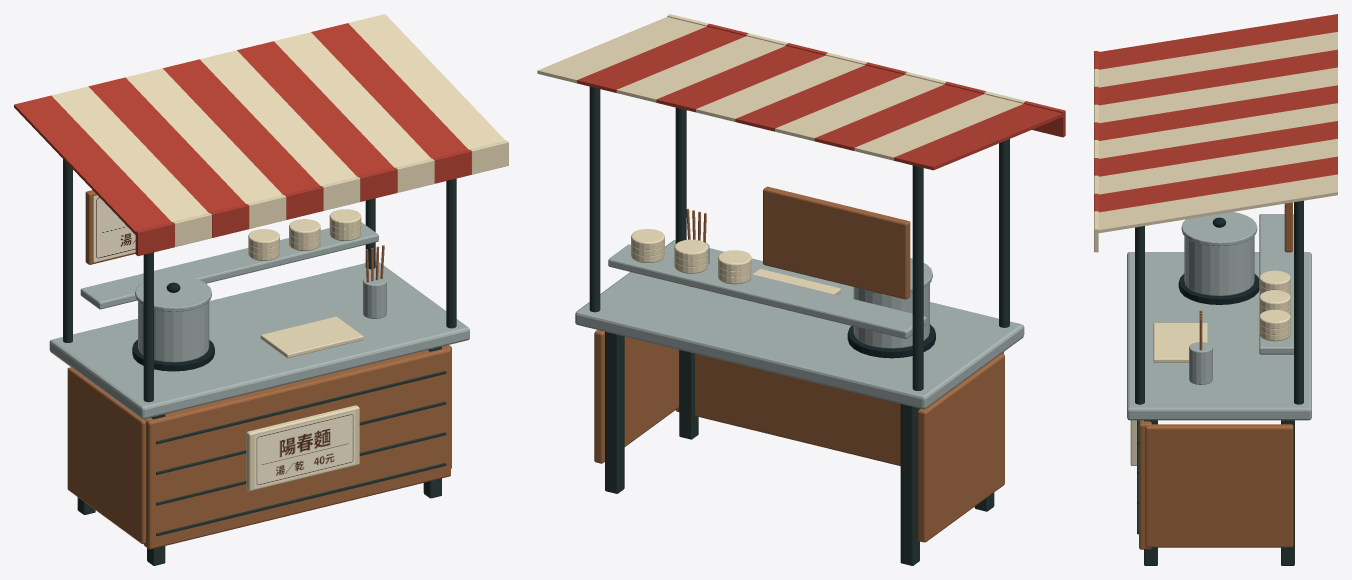
File: 02_NoodleStall.glb
3 renders of one model, left to right at view 1: azimuth 30°, elevation 25°; view 2: azimuth 150°, elevation 25°; view 3: azimuth 270°, elevation 25°, orthographic. The views are drawn at different scales.
Parts seen in each view (by area): view 1: 02_NoodleStall; view 2: 02_NoodleStall; view 3: 02_NoodleStall.
Boxes of the visible parts, x1,y1,x2,y2 form: 02_NoodleStall: (14,14,508,565); 02_NoodleStall: (537,14,1065,565); 02_NoodleStall: (1094,14,1337,565).
Bounding box in the file's own units: 2.28 × 2.35 × 1.32.
7 materials, 1 textured.
